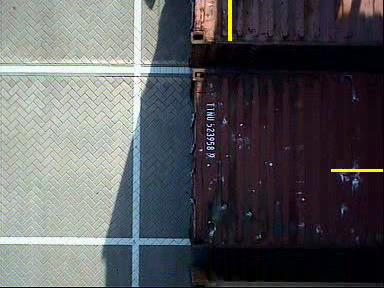groundmarker_2: (97, 179, 167, 214), (96, 1, 166, 35)
